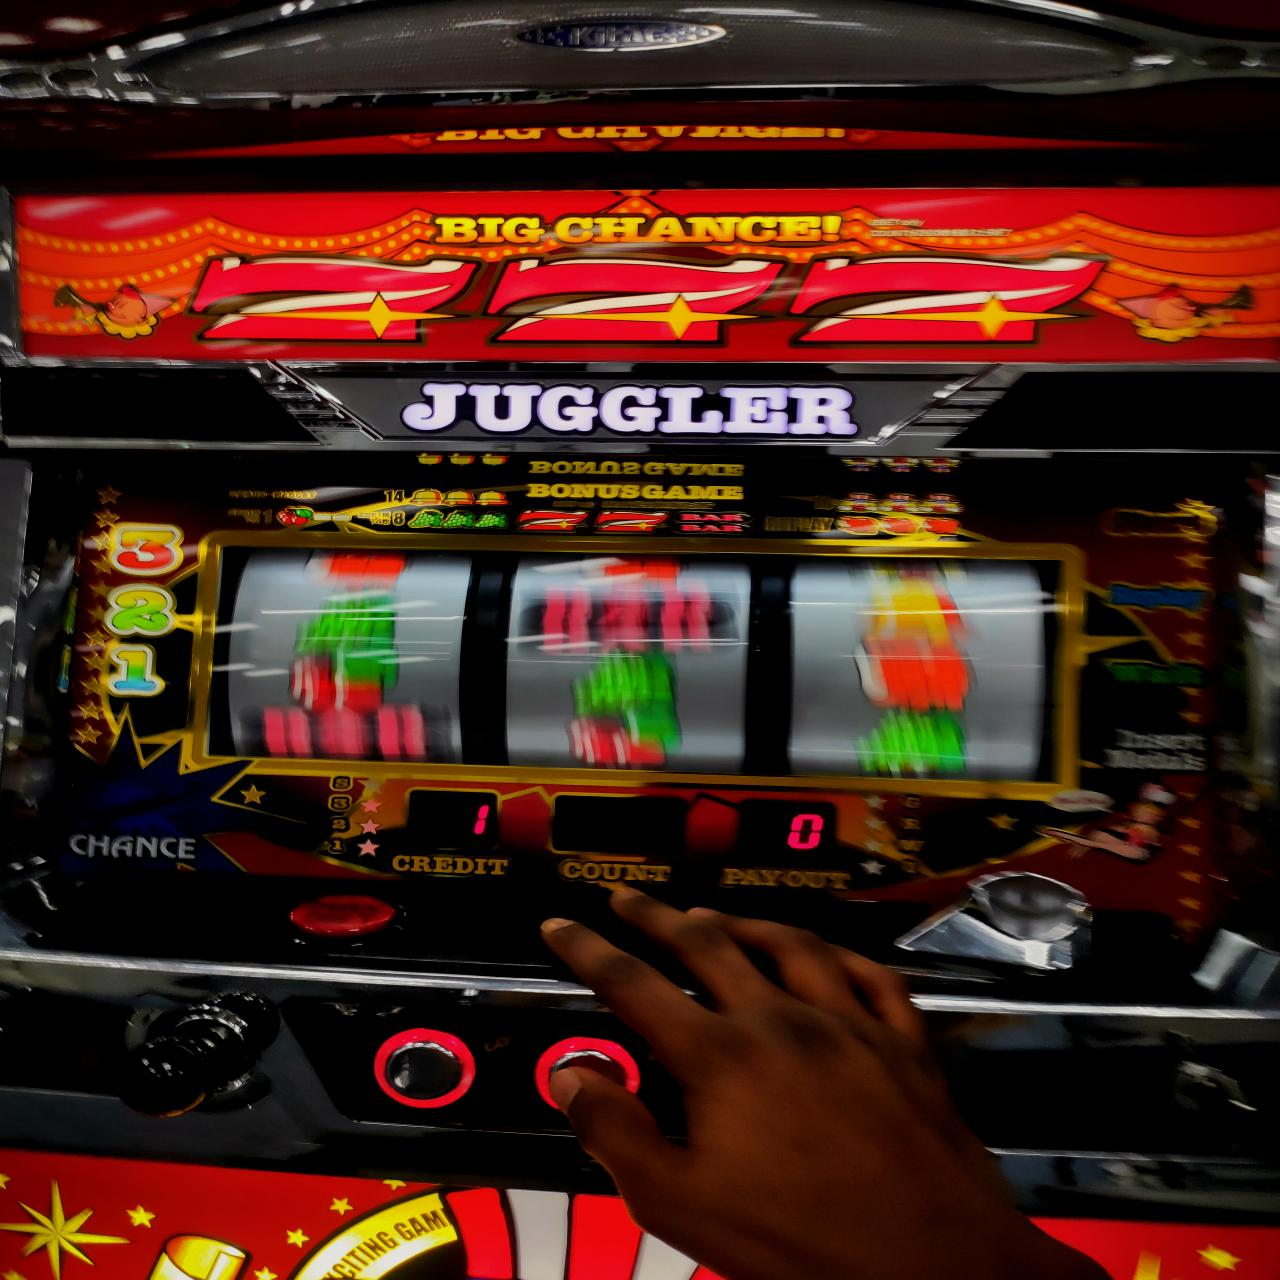rhino: (211, 540, 1074, 790)
